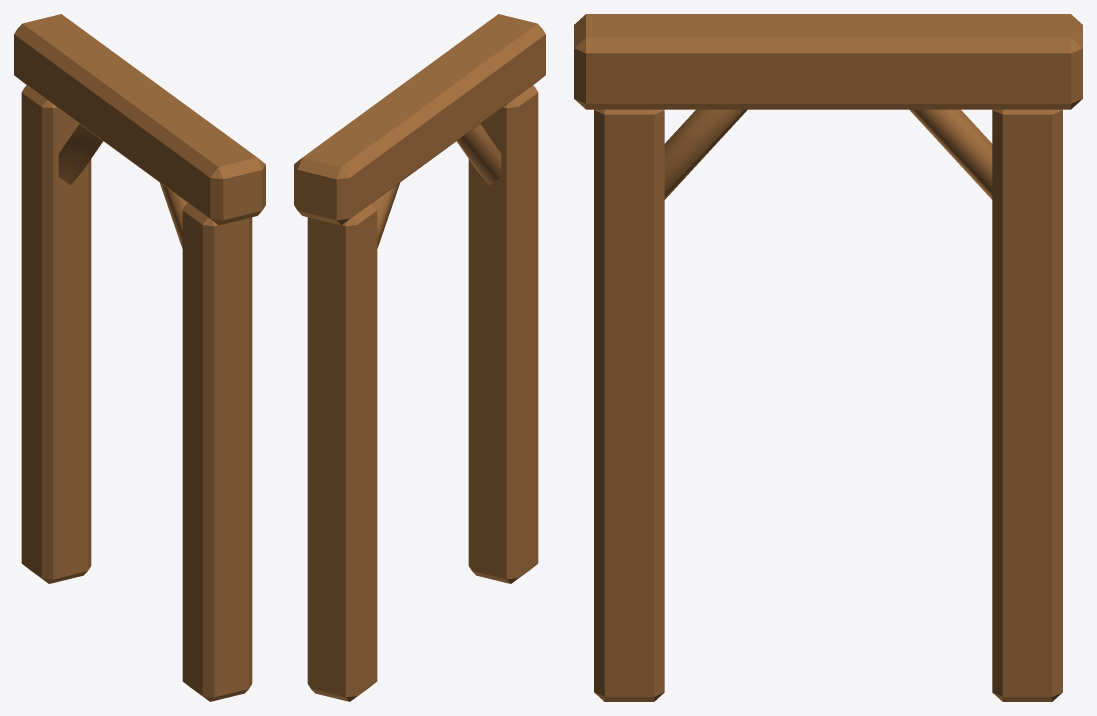
The model's file is prop_timber3_6f9b.glb.
3 views of the same model, side by side, from view 1: azimuth 30°, elevation 25°; view 2: azimuth 150°, elevation 25°; view 3: azimuth 270°, elevation 25° (orthographic). The views are drawn at different scales.
Parts seen in each view (by area): view 1: prop_timber3_6f9b; view 2: prop_timber3_6f9b; view 3: prop_timber3_6f9b.
Boxes of the visible parts, x1,y1,x2,y2 form: prop_timber3_6f9b: (14,14,265,701); prop_timber3_6f9b: (294,14,545,701); prop_timber3_6f9b: (574,14,1082,701).
Size of the model in its own units: 0.159 by 1.47 by 1.02.
Materials: 1 (1 with a texture image).
